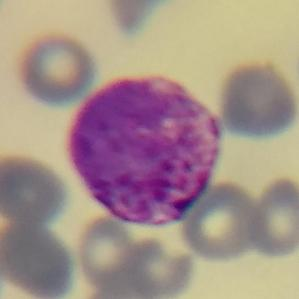Basophil: (53, 67, 226, 233)
RBC: (177, 179, 266, 263), (213, 58, 299, 140), (11, 29, 100, 108), (0, 218, 78, 299), (72, 211, 147, 295), (115, 225, 198, 299), (0, 149, 71, 227), (242, 173, 299, 260), (100, 0, 190, 39)
